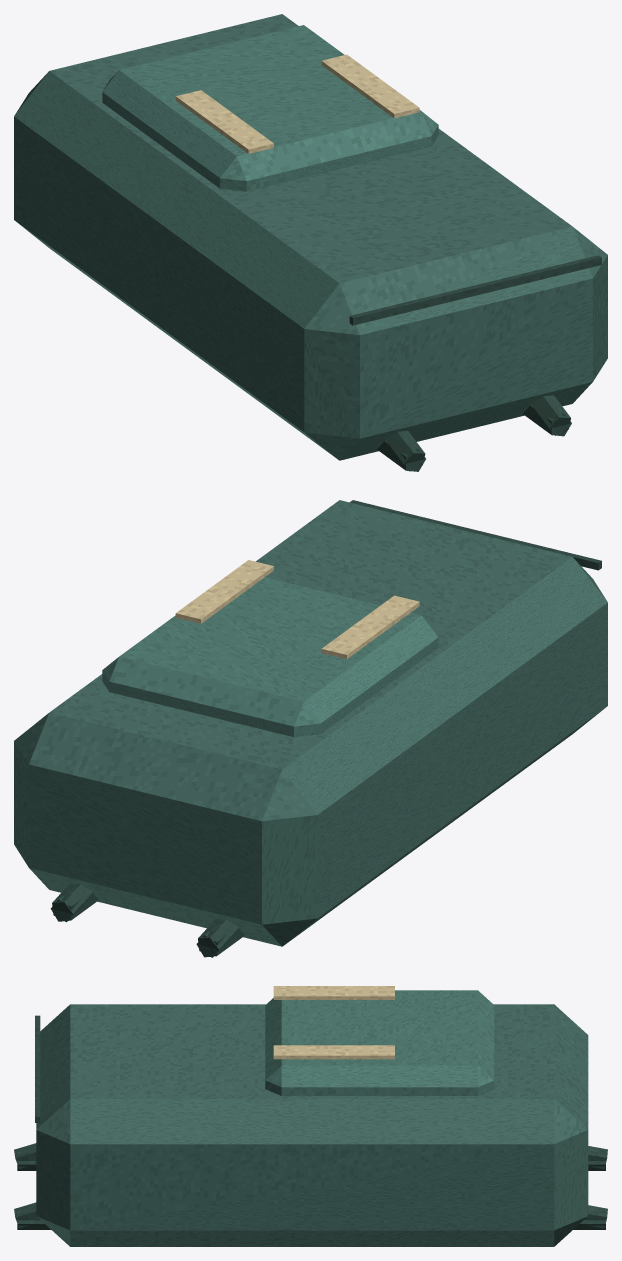
The model's file is runner_bag.glb.
The picture shows the model from 3 angles, top to bottom: view 1: azimuth 30°, elevation 25°; view 2: azimuth 150°, elevation 25°; view 3: azimuth 270°, elevation 25°; orthographic projection. The views are drawn at different scales.
Visible parts, largest first — view 1: block_bag body, block_front pocket, block_zipper or closure, block_reflector 0.0516, block_reflector -0.0516, block_shoulder harness 0.0516 2, block_shoulder harness -0.0516 2; view 2: block_bag body, block_front pocket, block_reflector 0.0516, block_reflector -0.0516, block_zipper or closure, block_shoulder harness 0.0516 0, block_shoulder harness -0.0516 0; view 3: block_bag body, block_front pocket, block_reflector 0.0516, block_reflector -0.0516, block_zipper or closure, block_shoulder harness 0.0516 1, block_shoulder harness -0.0516 1, block_shoulder harness 0.0516 2, block_shoulder harness -0.0516 2.
Part boxes in pixels (left/top/right/bottom): block_bag body: left=14, top=14, right=607, bottom=460; block_front pocket: left=102, top=25, right=438, bottom=191; block_zipper or closure: left=349, top=255, right=601, bottom=325; block_reflector 0.0516: left=321, top=54, right=419, bottom=118; block_reflector -0.0516: left=175, top=90, right=273, bottom=153; block_shoulder harness 0.0516 2: left=530, top=395, right=570, bottom=435; block_shoulder harness -0.0516 2: left=385, top=431, right=425, bottom=471; block_bag body: left=14, top=500, right=607, bottom=946; block_front pocket: left=102, top=577, right=438, bottom=737; block_reflector 0.0516: left=175, top=560, right=273, bottom=623; block_reflector -0.0516: left=321, top=595, right=419, bottom=659; block_zipper or closure: left=350, top=500, right=601, bottom=570; block_shoulder harness 0.0516 0: left=52, top=883, right=93, bottom=922; block_shoulder harness -0.0516 0: left=198, top=919, right=238, bottom=957; block_bag body: left=36, top=1004, right=588, bottom=1246; block_front pocket: left=265, top=990, right=494, bottom=1095; block_reflector 0.0516: left=273, top=1045, right=394, bottom=1059; block_reflector -0.0516: left=273, top=986, right=394, bottom=999; block_zipper or closure: left=35, top=1015, right=40, bottom=1122; block_shoulder harness 0.0516 1: left=17, top=1211, right=605, bottom=1229; block_shoulder harness -0.0516 1: left=17, top=1151, right=605, bottom=1170; block_shoulder harness 0.0516 2: left=14, top=1202, right=40, bottom=1228; block_shoulder harness -0.0516 2: left=14, top=1143, right=36, bottom=1168.
Bounding box in the file's own units: 0.215 × 0.145 × 0.4369.
1 material, 1 textured.
